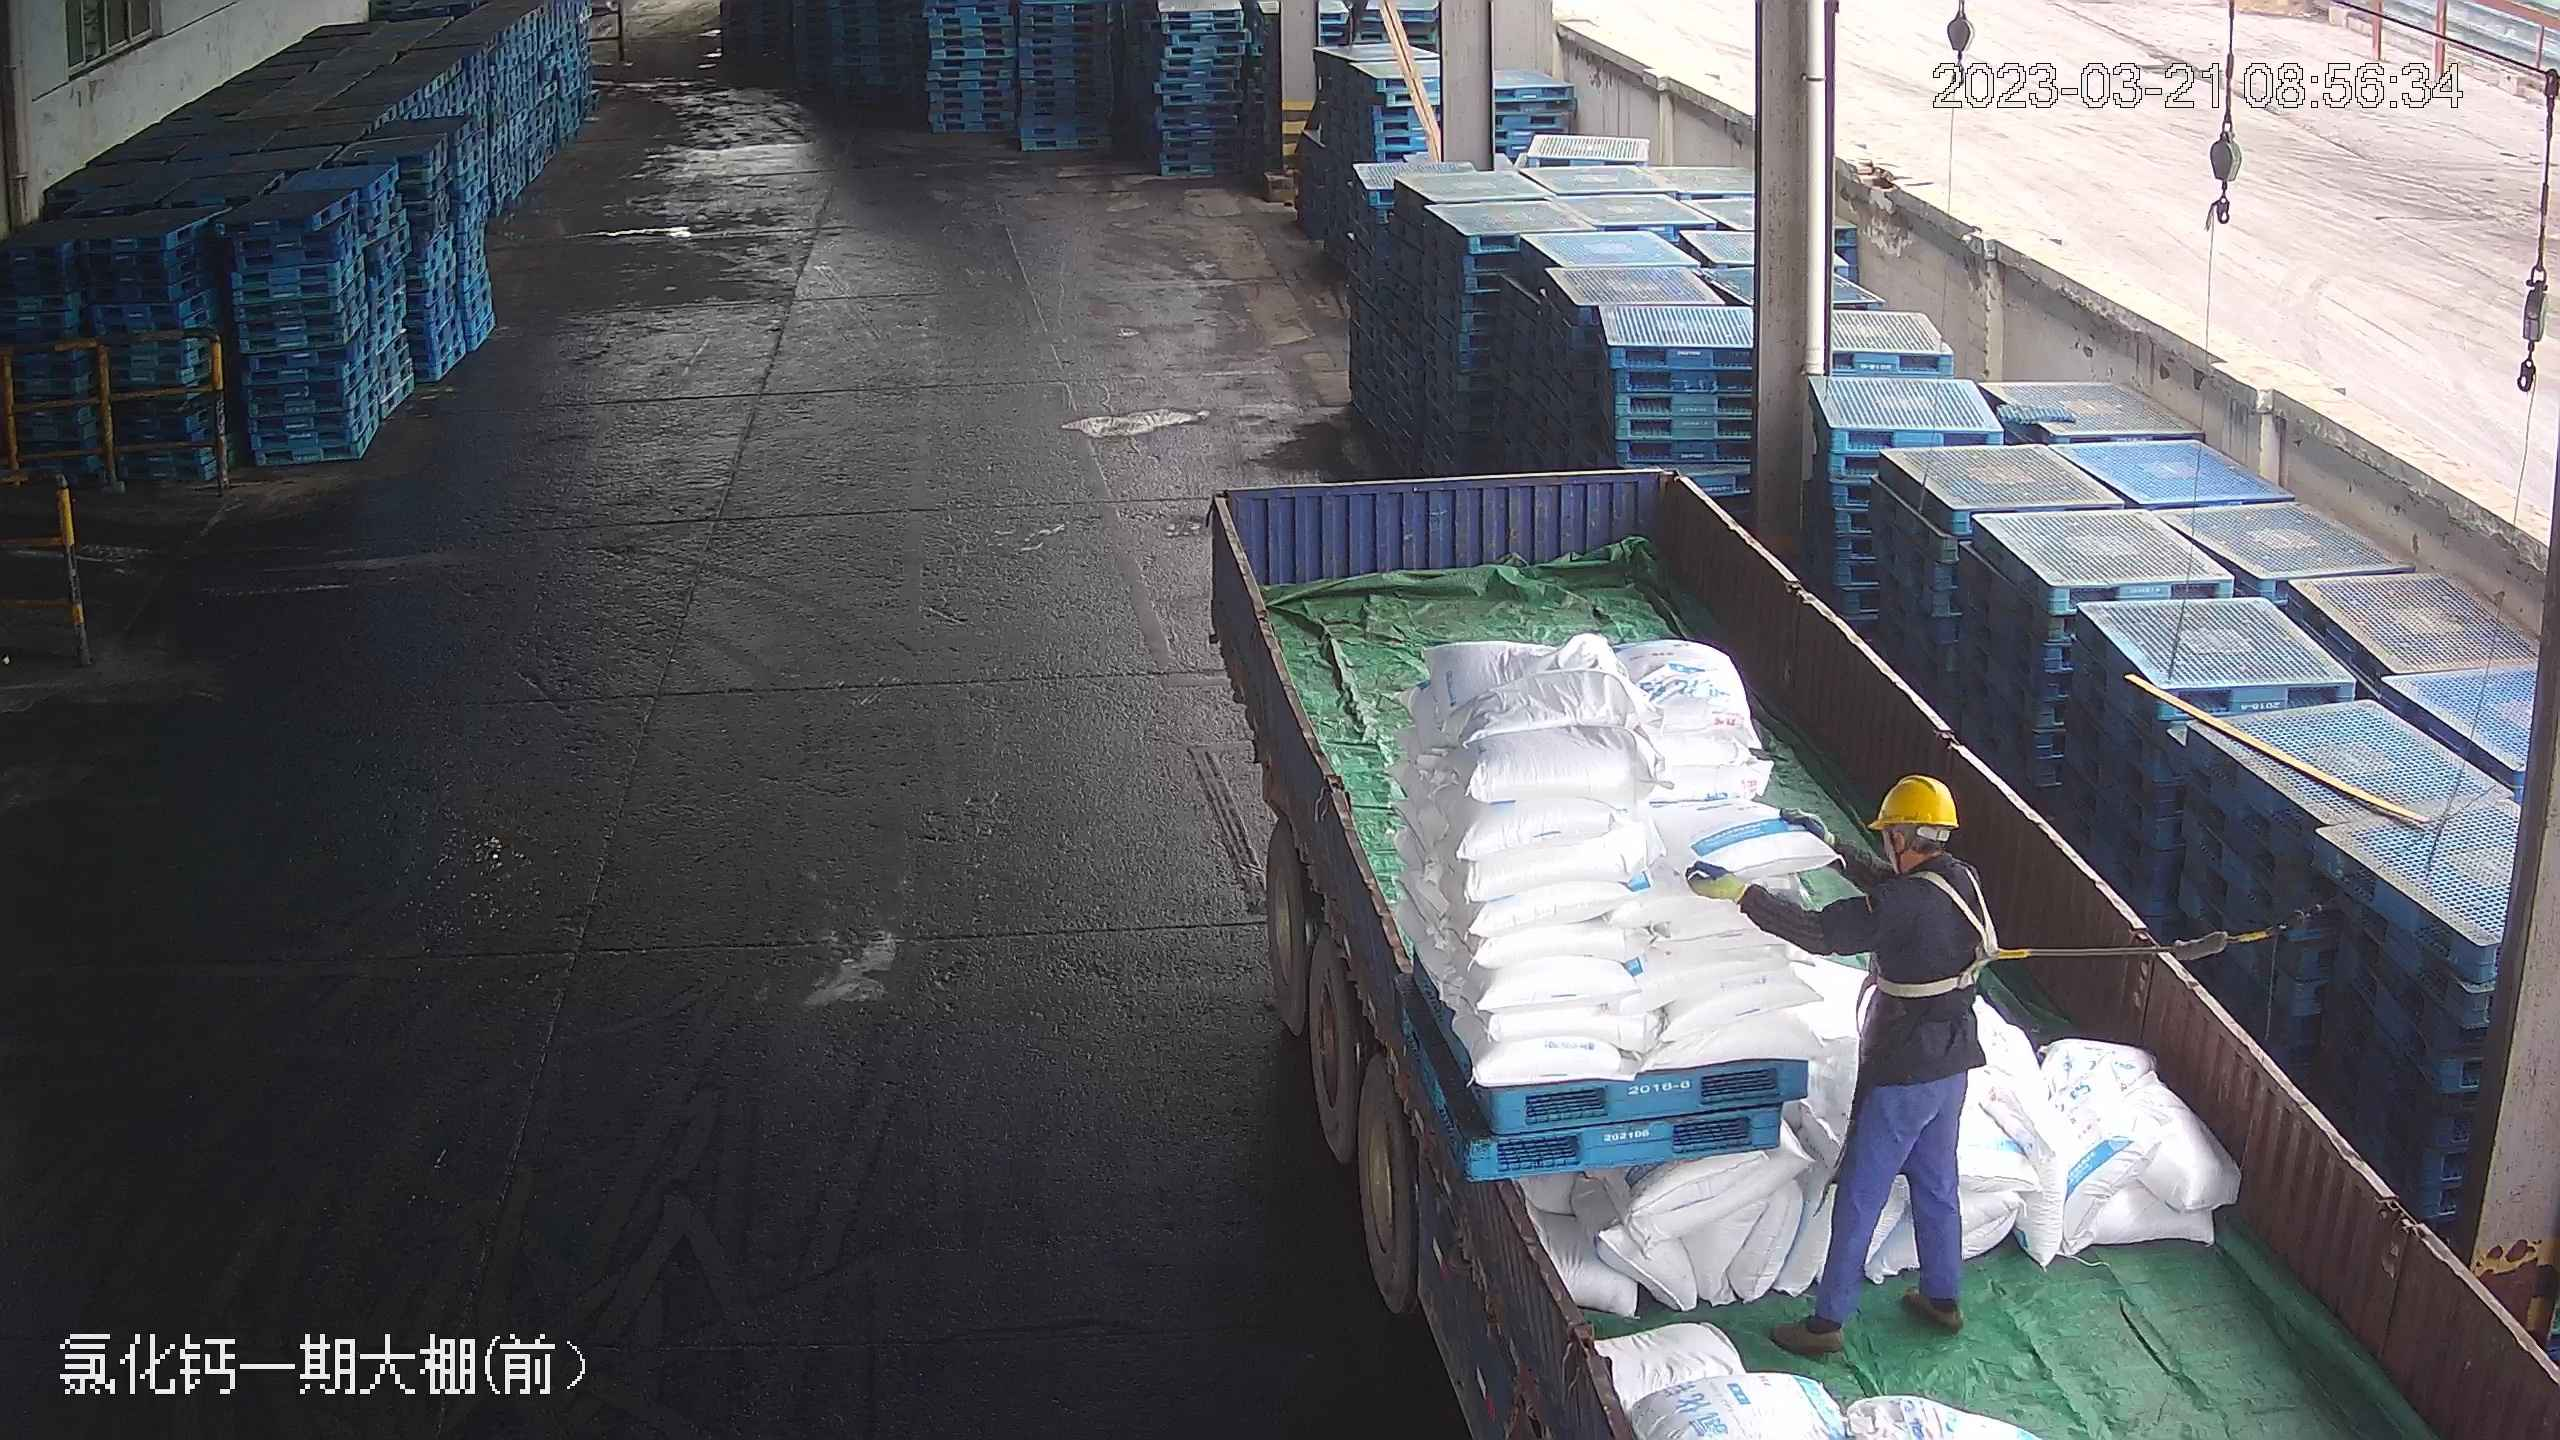belt: (1876, 858, 2022, 1000)
head: (1847, 770, 1993, 944)
helmet: (1868, 771, 1958, 832)
people: (1691, 778, 1988, 1342)
truck: (1151, 444, 2485, 1440)
